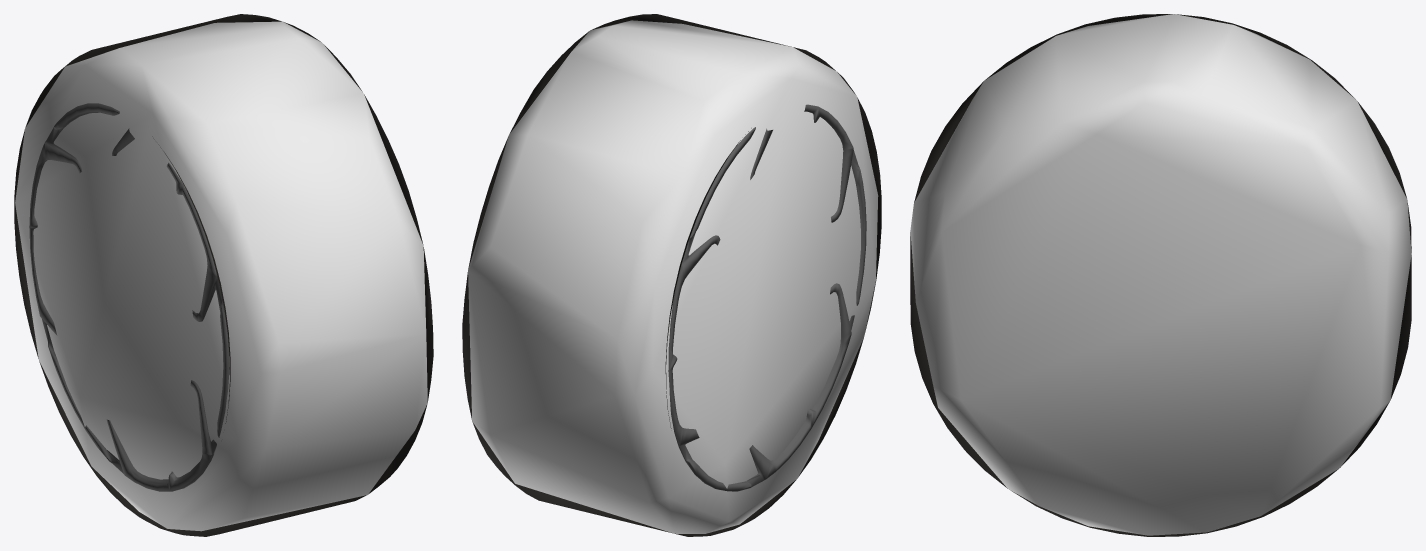
3 renders of one model, left to right at view 1: azimuth 30°, elevation 25°; view 2: azimuth 150°, elevation 25°; view 3: azimuth 270°, elevation 25°, orthographic.
Visible parts, largest first — view 1: wheel_eclipse_rear_01_col, wheel_eclipse_rear_01; view 2: wheel_eclipse_rear_01_col, wheel_eclipse_rear_01; view 3: wheel_eclipse_rear_01_col, wheel_eclipse_rear_01.
Boxes of the visible parts, x1,y1,x2,y2 form: wheel_eclipse_rear_01_col: (15, 21, 427, 531); wheel_eclipse_rear_01: (14, 14, 433, 536); wheel_eclipse_rear_01_col: (468, 20, 878, 533); wheel_eclipse_rear_01: (462, 14, 881, 536); wheel_eclipse_rear_01_col: (910, 14, 1411, 535); wheel_eclipse_rear_01: (910, 14, 1411, 536).
Bounding box in the file's own units: 0.3225 × 0.7189 × 0.7189.
Materials: 4 (3 with a texture image).
